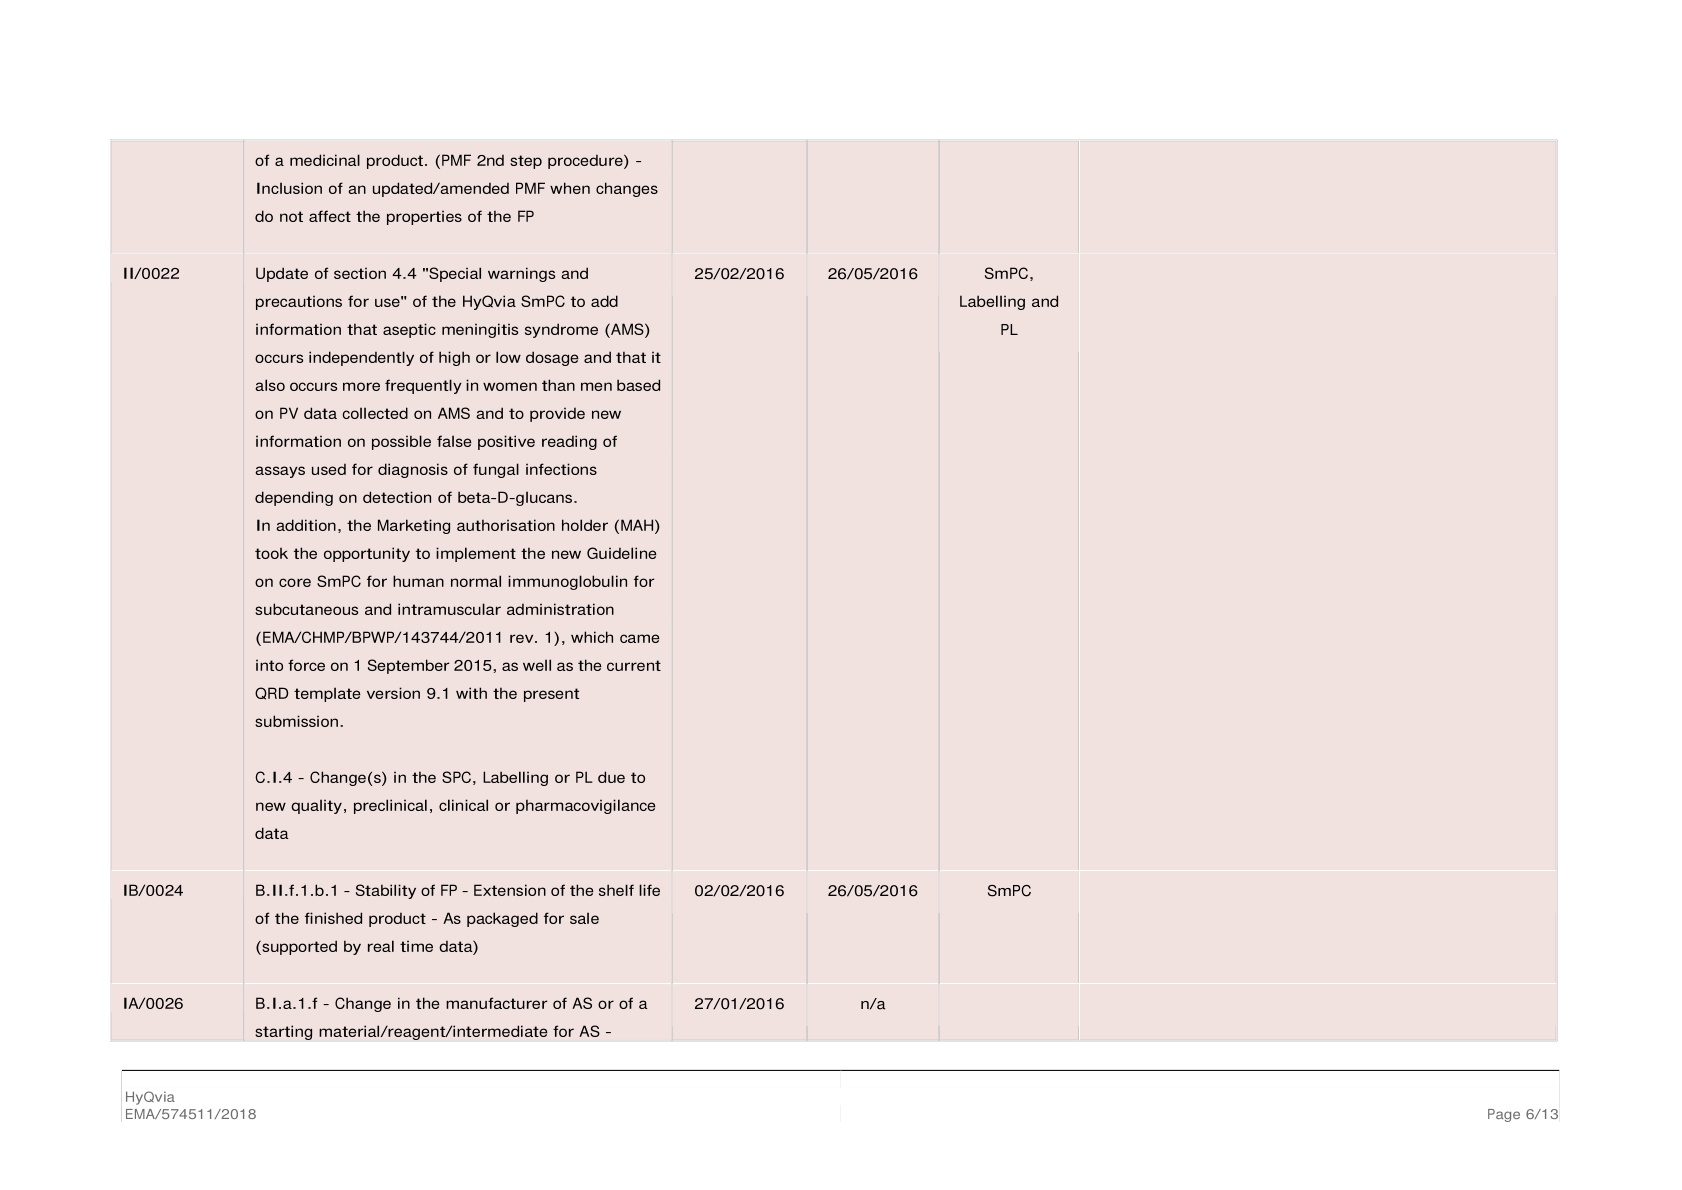full_lined: (109, 138, 1558, 1042)
